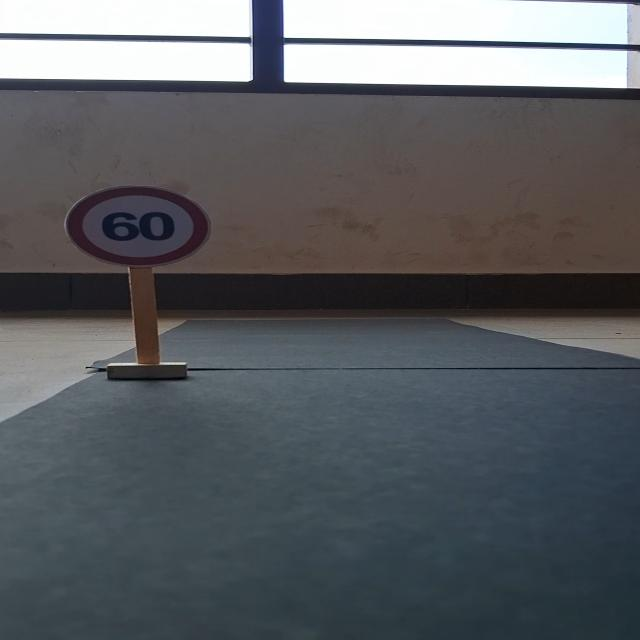Speed60: (64, 188, 214, 270)
